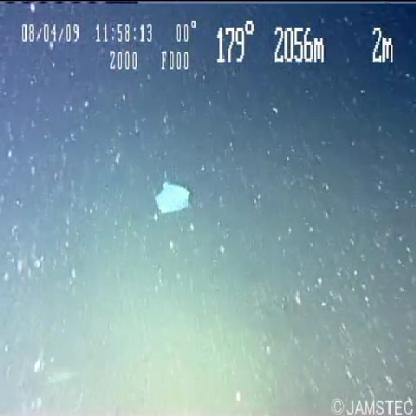Rác: (146, 169, 210, 222)
